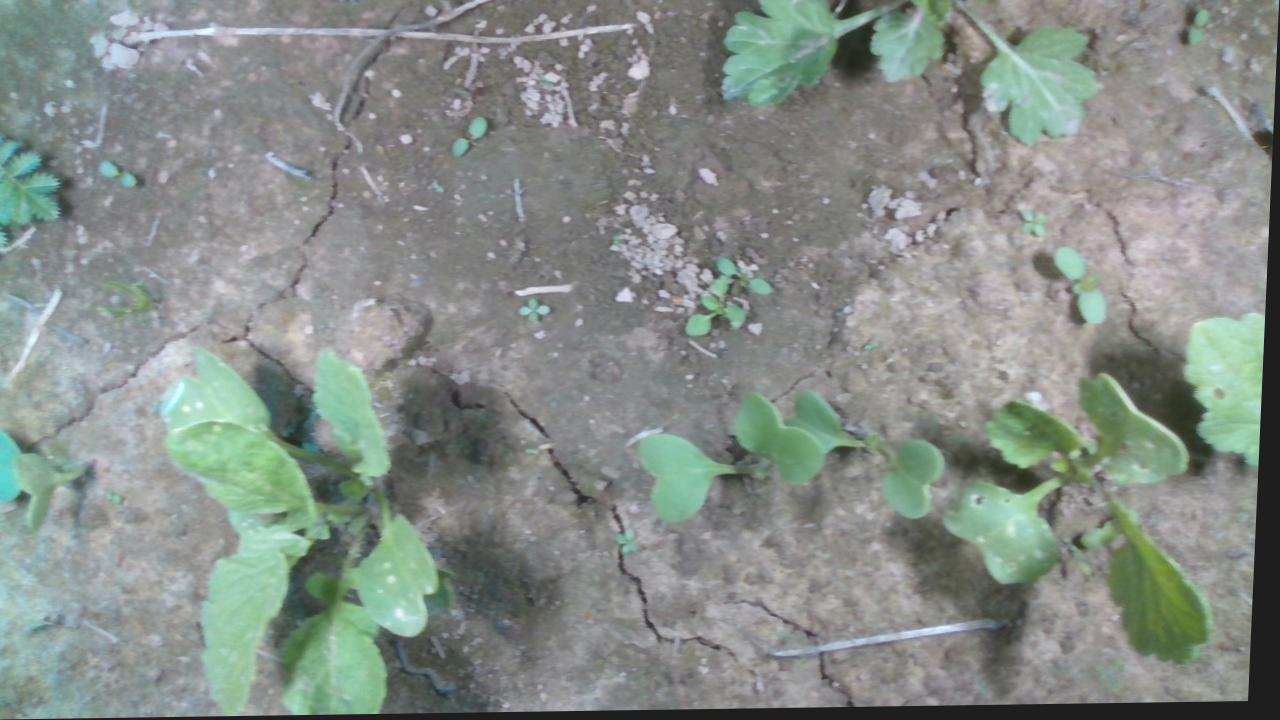weed: (1051, 247, 1113, 329), (451, 110, 487, 161), (613, 524, 657, 557), (94, 158, 138, 189), (516, 294, 557, 327), (1019, 210, 1052, 244)
